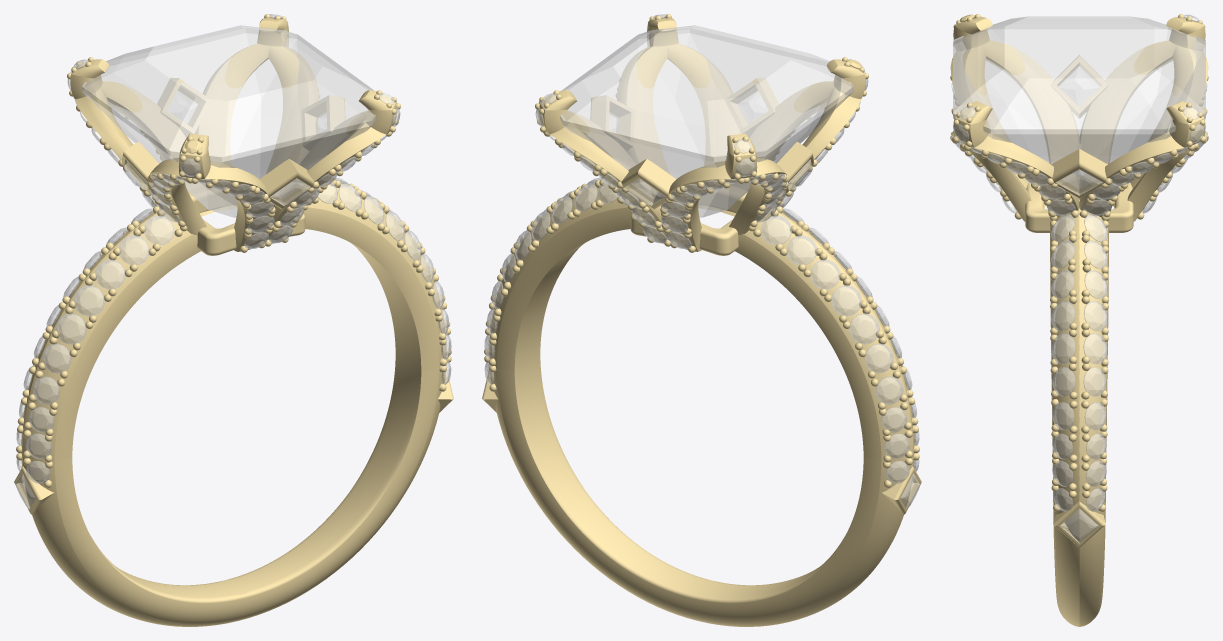
Rendered from RE001-variants.glb.
3 views of the same model, side by side, from view 1: azimuth 30°, elevation 25°; view 2: azimuth 150°, elevation 25°; view 3: azimuth 270°, elevation 25° (orthographic).
Visible parts, largest first — view 1: NNObj_0, NNObj_464, NNObj_92, NNObj_96, NNObj_95, NNObj_91, NNObj_94, NNObj_97, NNObj_89; view 2: NNObj_0, NNObj_464, NNObj_42, NNObj_46, NNObj_45, NNObj_41, NNObj_44, NNObj_47, NNObj_39; view 3: NNObj_0, NNObj_464, NNObj_471, NNObj_466, NNObj_467, NNObj_146, NNObj_196, NNObj_142, NNObj_192, NNObj_147, NNObj_197, NNObj_144 (+11 smaller).
Part boxes in pixels (x1,y1,x2,y2): NNObj_0: (14,14,453,626); NNObj_464: (82,25,375,217); NNObj_92: (74,285,104,316); NNObj_96: (56,313,86,344); NNObj_95: (119,235,149,264); NNObj_91: (144,215,174,244); NNObj_94: (95,259,125,289); NNObj_97: (42,343,71,373); NNObj_89: (32,376,59,404); NNObj_0: (482,14,921,626); NNObj_464: (560,25,853,217); NNObj_42: (831,285,861,316); NNObj_46: (849,313,879,344); NNObj_45: (786,235,816,264); NNObj_41: (761,215,791,244); NNObj_44: (810,259,840,289); NNObj_47: (864,343,893,373); NNObj_39: (876,376,903,404); NNObj_0: (950,14,1208,626); NNObj_464: (953,16,1205,199); NNObj_471: (1059,66,1099,106); NNObj_466: (1060,508,1098,542); NNObj_467: (1056,169,1102,195); NNObj_146: (1083,333,1107,364); NNObj_196: (1051,333,1075,364); NNObj_142: (1083,301,1107,331); NNObj_192: (1051,301,1075,331); NNObj_147: (1083,367,1106,396); NNObj_197: (1052,367,1075,396); NNObj_144: (1084,270,1107,299).
Bounding box in the file's own units: 0.0204 × 0.0254 × 0.0107.
